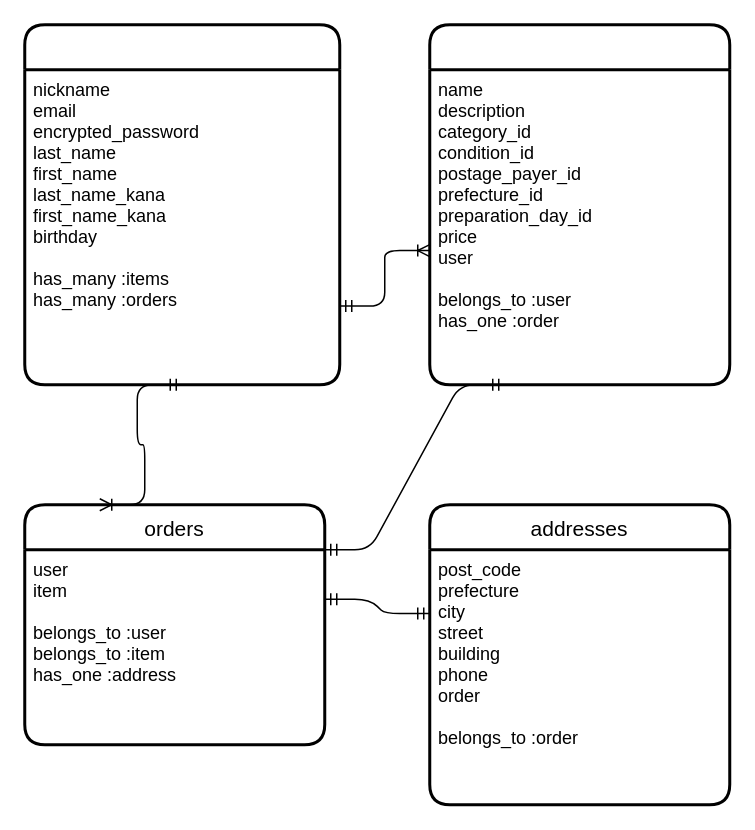
Some shapes in this 755 by 830 pixel diagram are drawn without their labels. The box of each missing label's shape, as (x1, y1, x2, y2) in pixels:
items: (428, 22, 730, 386)
users: (22, 22, 340, 386)
